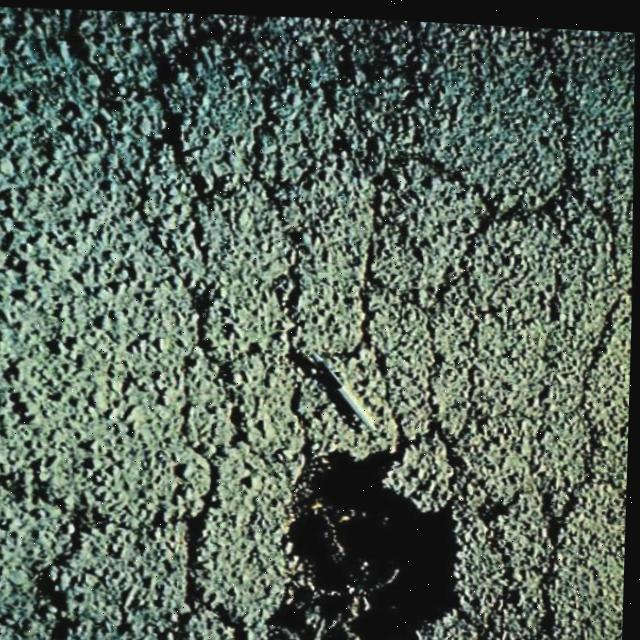Pothole: (287, 435, 492, 640)
